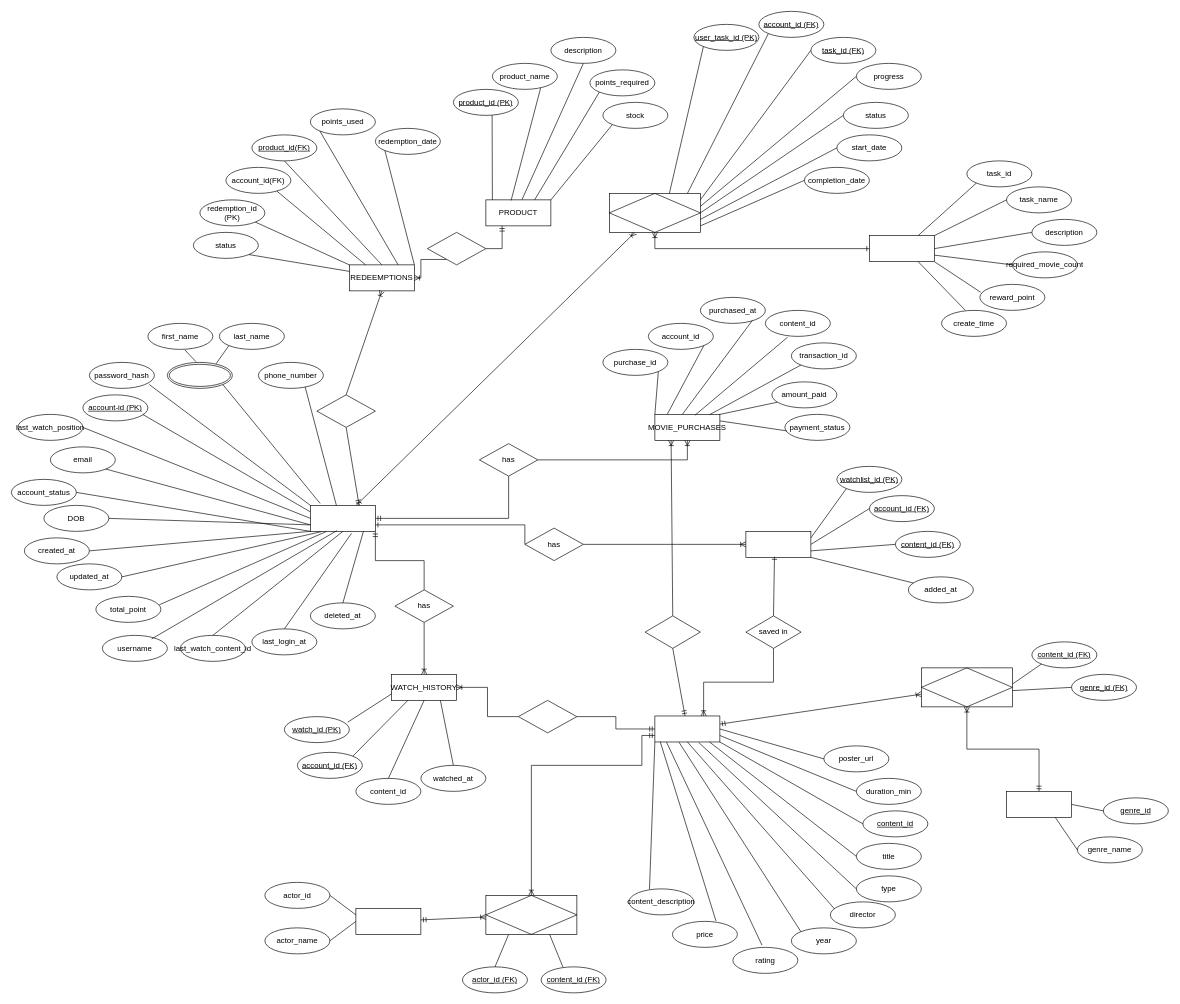
This 1180x1004 diagram has some shape labels left out. The box of each missing label's shape, as (x1, y1, x2, y2) in pixels:
ACCOUNTS: (310, 505, 375, 531)
ACTORS: (355, 908, 421, 934)
CONTENT: (654, 715, 720, 742)
CONTENT_ACTOR: (485, 895, 577, 934)
CONTENT_GENRE: (921, 667, 1012, 707)
GENRES: (1006, 791, 1072, 817)
name: (167, 362, 232, 388)
purchased in: (644, 615, 700, 648)
redeems: (316, 394, 375, 427)
store: (427, 232, 486, 265)
TASK: (869, 235, 934, 262)
USER_TASKS: (609, 193, 700, 232)
watch in: (518, 700, 577, 733)
WATCHLIST: (745, 531, 811, 557)
